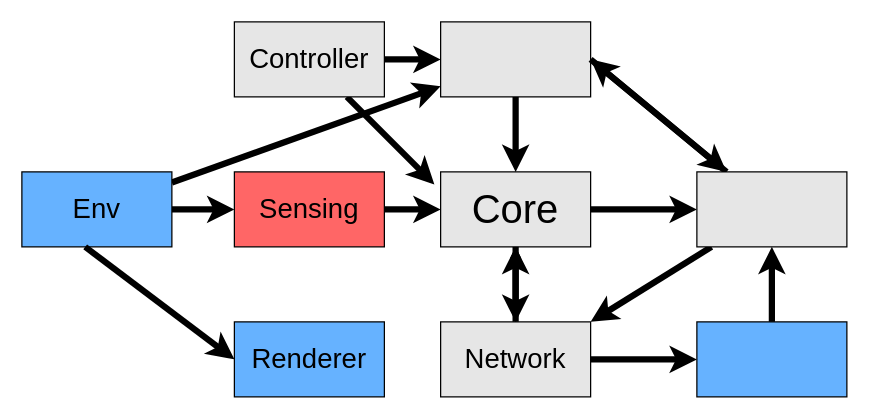
The diagram is 869 pixels wide and 419 high, and some of its shapes have lost their labels. Each missing label, with the centre of its shape:
Benchmark: the point at 515,59
Util: the point at 771,209
Viz: the point at 771,359
